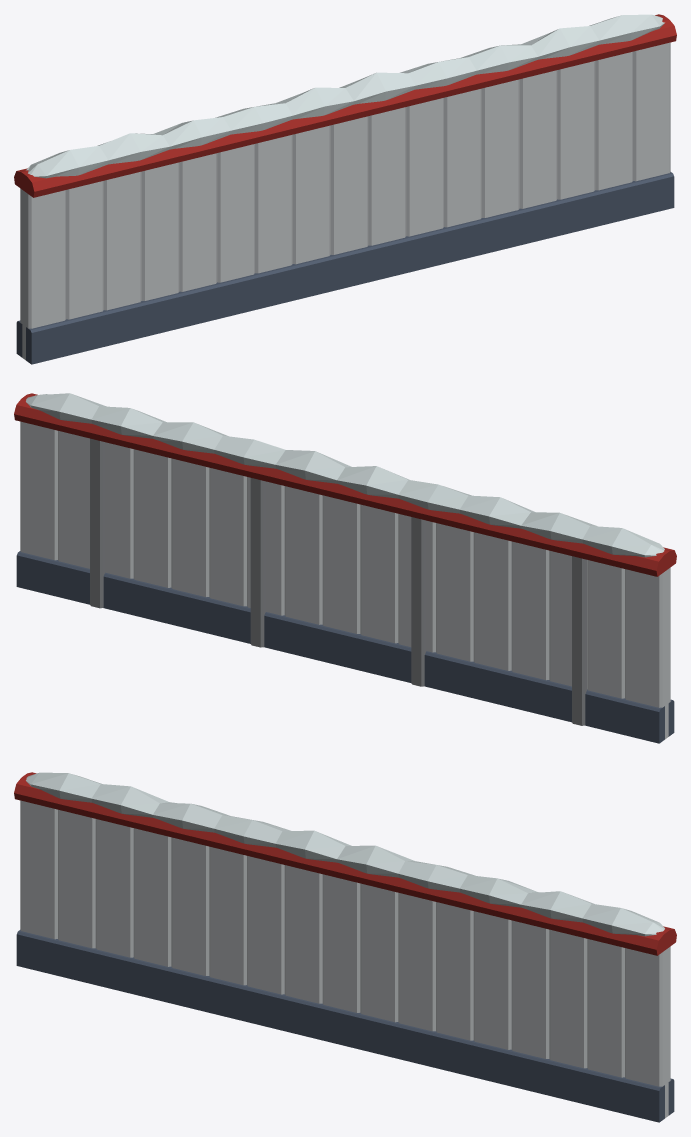
The model's file is rink-board-run-59a111.glb.
The picture shows the model from 3 angles, top to bottom: view 1: azimuth 30°, elevation 25°; view 2: azimuth 150°, elevation 25°; view 3: azimuth 330°, elevation 25°; orthographic projection.
Visible parts, largest first — view 1: rink-boards; view 2: rink-boards; view 3: rink-boards.
Boxes of the visible parts, x1,y1,x2,y2 form: rink-boards: [14, 14, 676, 364]; rink-boards: [14, 393, 676, 743]; rink-boards: [14, 772, 676, 1122].
Bounding box in the file's own units: 4 × 1.2 × 0.22.
